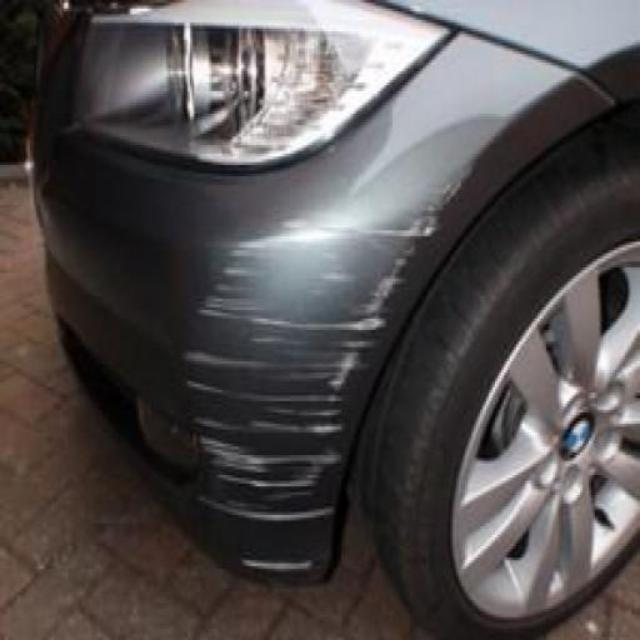rub: (186, 171, 474, 518)
